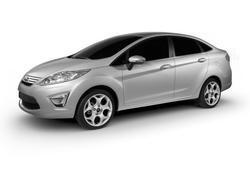car: (18, 33, 235, 128)
